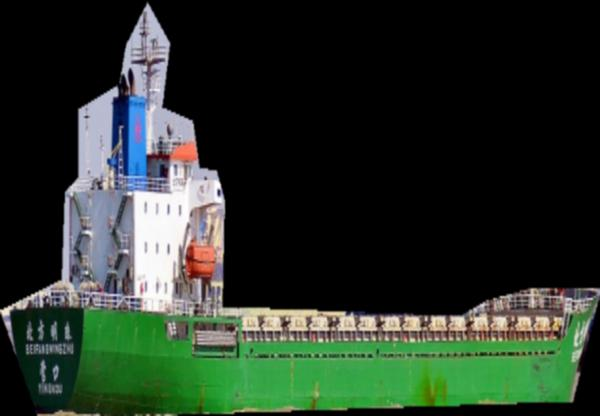Bulkers: (0, 2, 600, 416)
